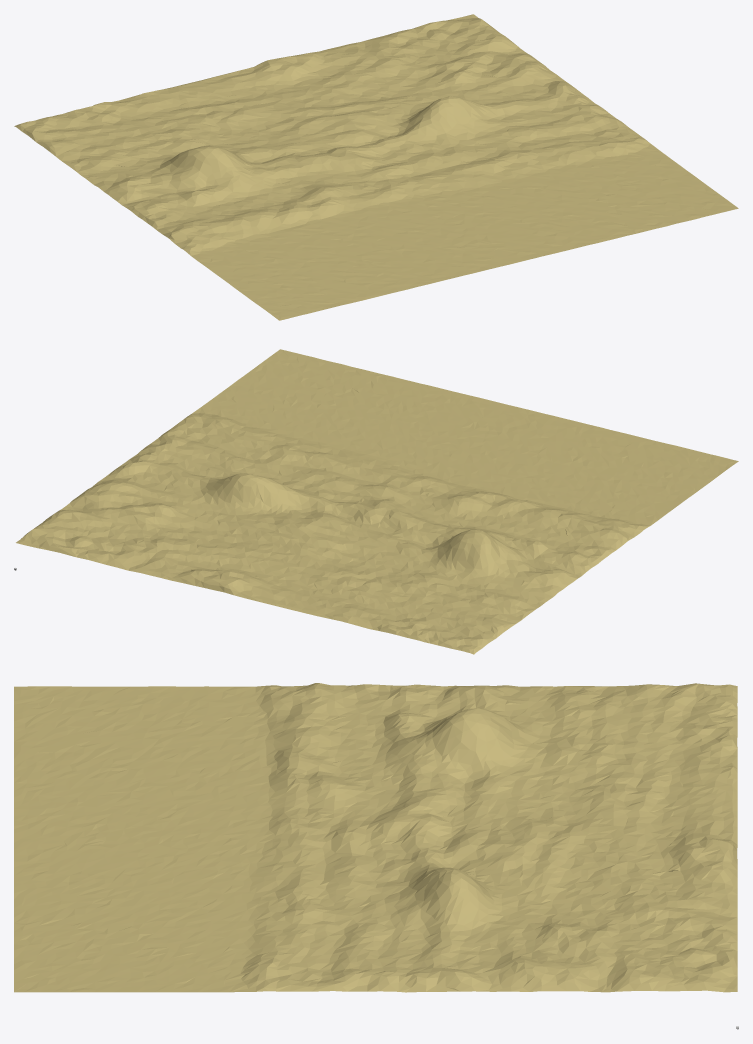
File: Terrrian- low poly.fbx
3 views of the same model, one above another, from view 1: azimuth 30°, elevation 25°; view 2: azimuth 150°, elevation 25°; view 3: azimuth 270°, elevation 25° (orthographic). The views are drawn at different scales.
Parts seen in each view (by area): view 1: Terrain; view 2: Terrain; view 3: Terrain.
Part boxes in pixels (x1,y1,x2,y2): Terrain: (14, 14, 738, 320); Terrain: (16, 349, 738, 654); Terrain: (14, 683, 737, 992).
Bounding box in the file's own units: 50118 × 5671 × 50103.
